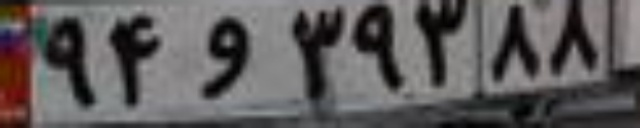3: (291, 5, 343, 99), (414, 0, 465, 86)
4: (106, 16, 162, 107)
8: (491, 4, 541, 81), (551, 1, 597, 73)
9: (43, 15, 94, 106), (350, 3, 402, 89)
vav: (198, 16, 251, 98)
